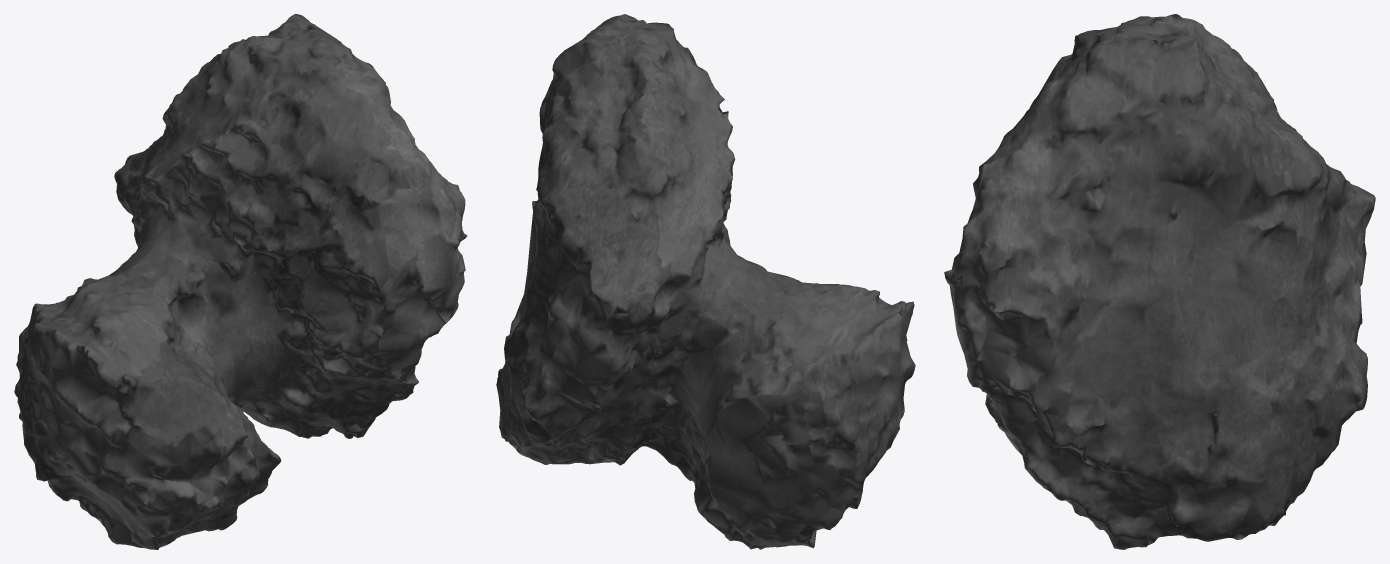
Rendered from churyumov-gerasimenko.glb.
The picture shows the model from 3 angles, left to right: view 1: azimuth 30°, elevation 25°; view 2: azimuth 150°, elevation 25°; view 3: azimuth 270°, elevation 25°; orthographic projection. The views are drawn at different scales.
Parts seen in each view (by area): view 1: lowres_default1_0; view 2: lowres_default1_0; view 3: lowres_default1_0.
Part boxes in pixels (x1,y1,x2,y2): lowres_default1_0: [14, 14, 467, 549]; lowres_default1_0: [496, 14, 915, 549]; lowres_default1_0: [944, 14, 1375, 549].
Bounding box in the file's own units: 195 × 238 × 165.
Materials: 1 (1 with a texture image).
